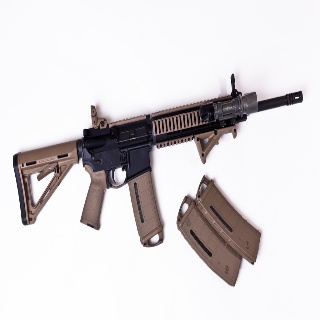rifle: (12, 73, 305, 248)
